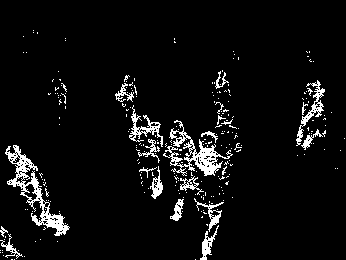person: (3, 145, 73, 235), (190, 130, 227, 260), (164, 122, 199, 222), (128, 114, 163, 200), (300, 81, 327, 148), (211, 69, 238, 127), (116, 73, 139, 124)
